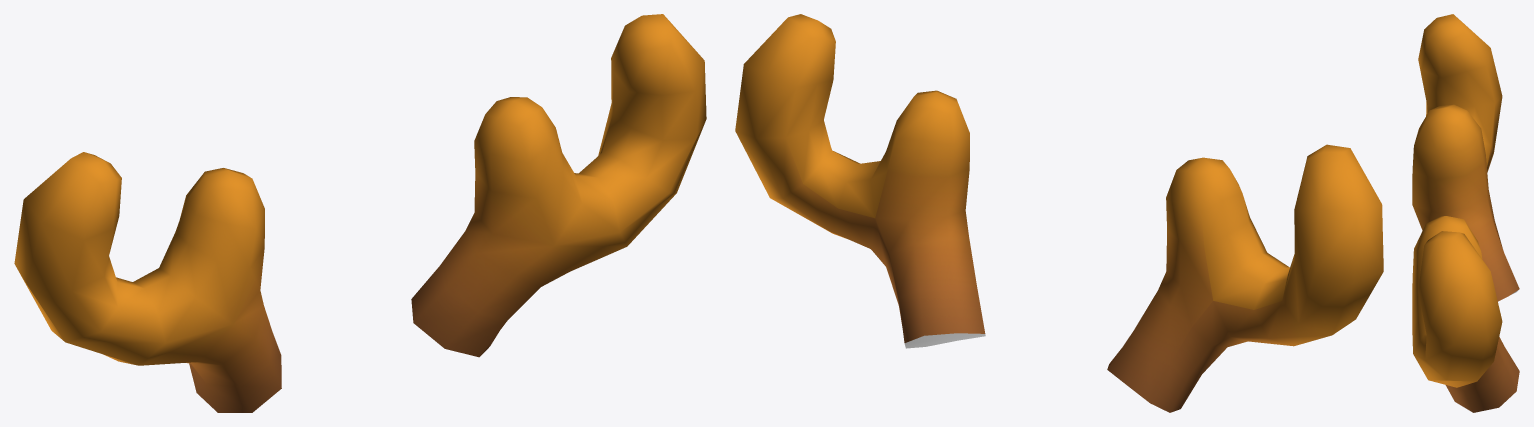
The model's file is deer_horn.fbx.
3 views of the same model, side by side, from view 1: azimuth 30°, elevation 25°; view 2: azimuth 150°, elevation 25°; view 3: azimuth 270°, elevation 25° (orthographic). The views are drawn at different scales.
Visible parts, largest first — view 1: deer_horn_mesh; view 2: deer_horn_mesh; view 3: deer_horn_mesh.
Part boxes in pixels (left/top/right/bottom): deer_horn_mesh: left=14, top=14, right=706, bottom=412; deer_horn_mesh: left=735, top=14, right=1383, bottom=412; deer_horn_mesh: left=1412, top=14, right=1519, bottom=412.
Size of the model in its own units: 3.02 by 1.28 by 0.5322.
